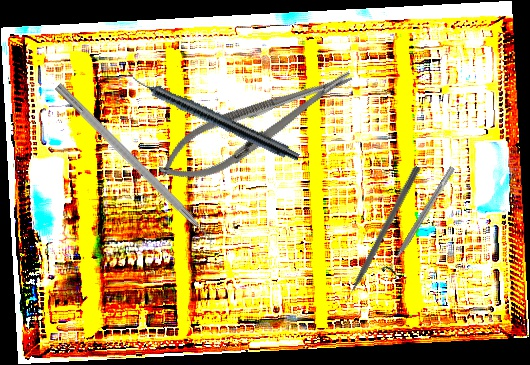Chopper: (45, 82, 223, 260)
Fixation Ring: (379, 162, 462, 280)
Handpiece: (123, 67, 303, 165)
Needle Holder: (149, 52, 364, 198)
Pusher: (337, 164, 422, 311)
